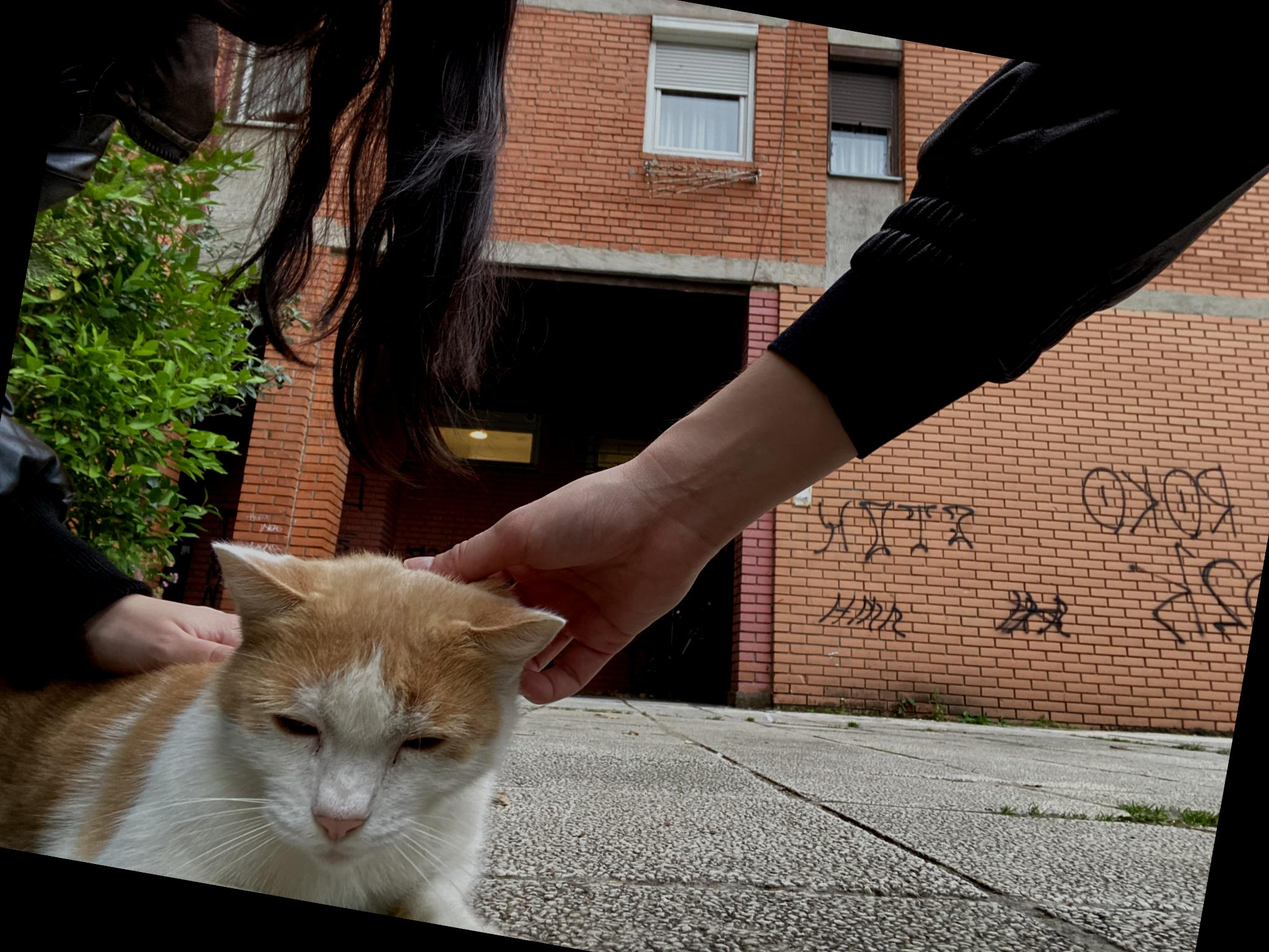macka: (0, 485, 573, 937)
